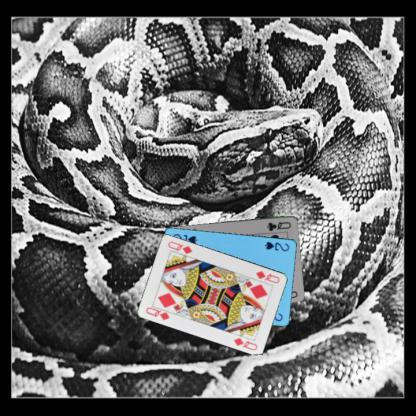2s: (262, 238, 291, 252)
Qc: (265, 218, 292, 233)
Qd: (144, 303, 174, 321), (254, 268, 281, 284)
